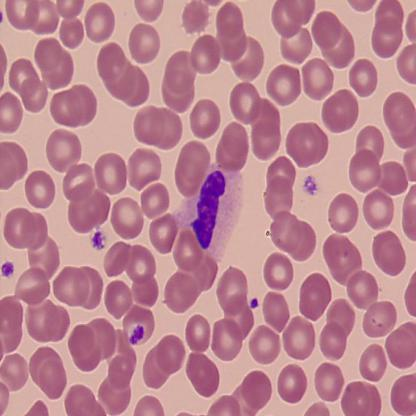Band Neutrophil: (170, 160, 244, 265)
